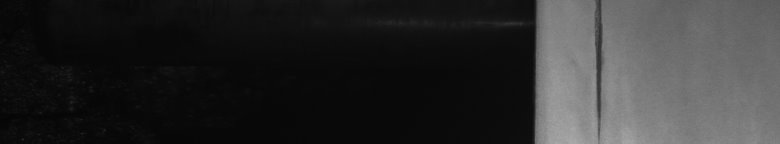hd: (588, 4, 611, 136)
